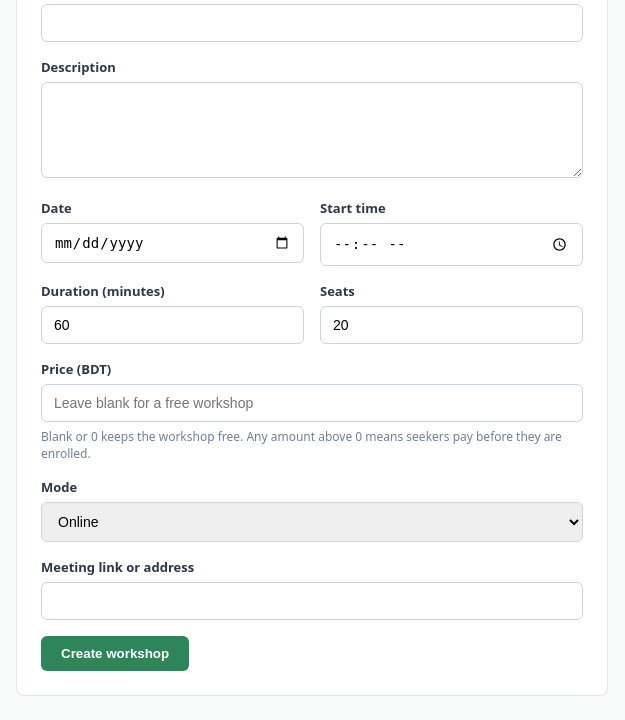
Test: CreateWorkshop form › asks for a title before sending anything
The image size is (625, 720).
(page scrolled)
What coordinates should you click on to do the following:
click the button "Create workshop"
I would click on:
 (115, 653)
Its box is [41,636,189,671].
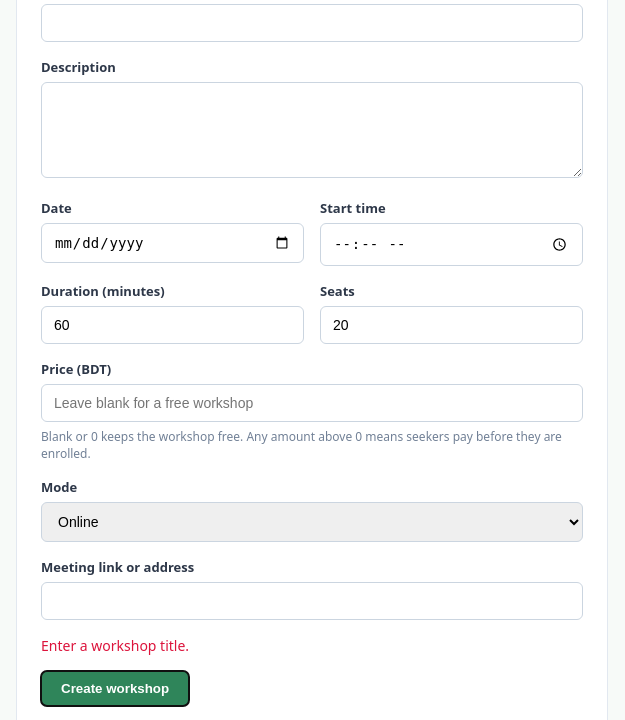
Now the message reads "Enter a workshop title.", box [41,636,189,655]
